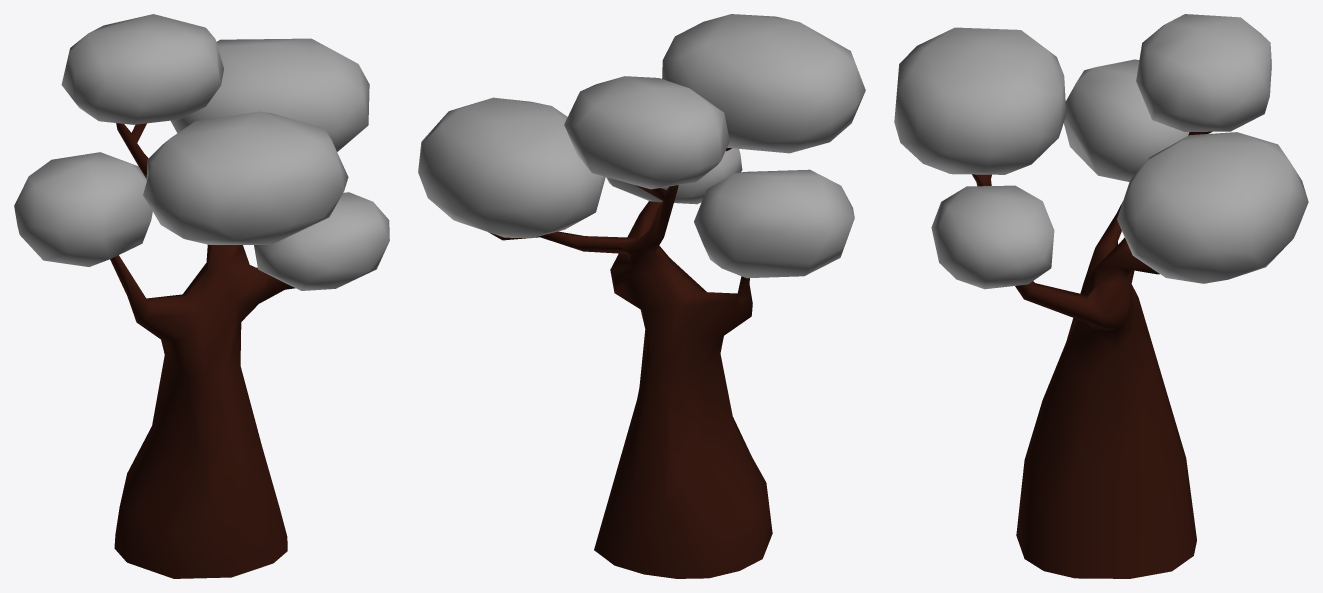
Rendered from tree_07.fbx.
The picture shows the model from 3 angles, left to right: view 1: azimuth 30°, elevation 25°; view 2: azimuth 150°, elevation 25°; view 3: azimuth 270°, elevation 25°; orthographic projection. The views are drawn at different scales.
Visible parts, largest first — view 1: tree_07; view 2: tree_07; view 3: tree_07.
Boxes of the visible parts, box(x1,y1,x2,y2) form: tree_07: box(14, 14, 389, 578); tree_07: box(418, 14, 865, 578); tree_07: box(894, 14, 1308, 578).
Size of the model in its own units: 4.28 by 3.86 by 5.21.
